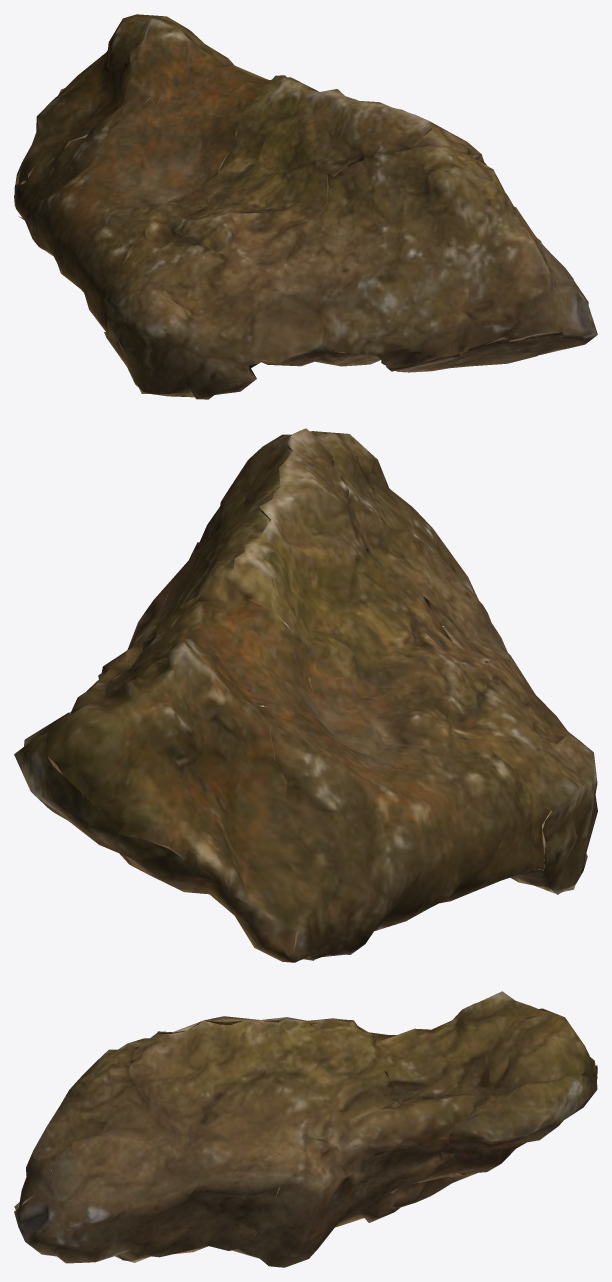
The model's file is rock_moss_01_2k.glb.
3 views of the same model, one above another, from view 1: azimuth 30°, elevation 25°; view 2: azimuth 150°, elevation 25°; view 3: azimuth 270°, elevation 25° (orthographic). The views are drawn at different scales.
Visible parts, largest first — view 1: rock_moss_set_01_rock01; view 2: rock_moss_set_01_rock01; view 3: rock_moss_set_01_rock01.
Boxes of the visible parts, x1=… form: rock_moss_set_01_rock01: x1=14, y1=14, x2=597, y2=399; rock_moss_set_01_rock01: x1=14, y1=428, x2=597, y2=962; rock_moss_set_01_rock01: x1=14, y1=991, x2=597, y2=1267.
Bounding box in the file's own units: 2.24 × 1.48 × 3.38.
Materials: 1 (1 with a texture image).
